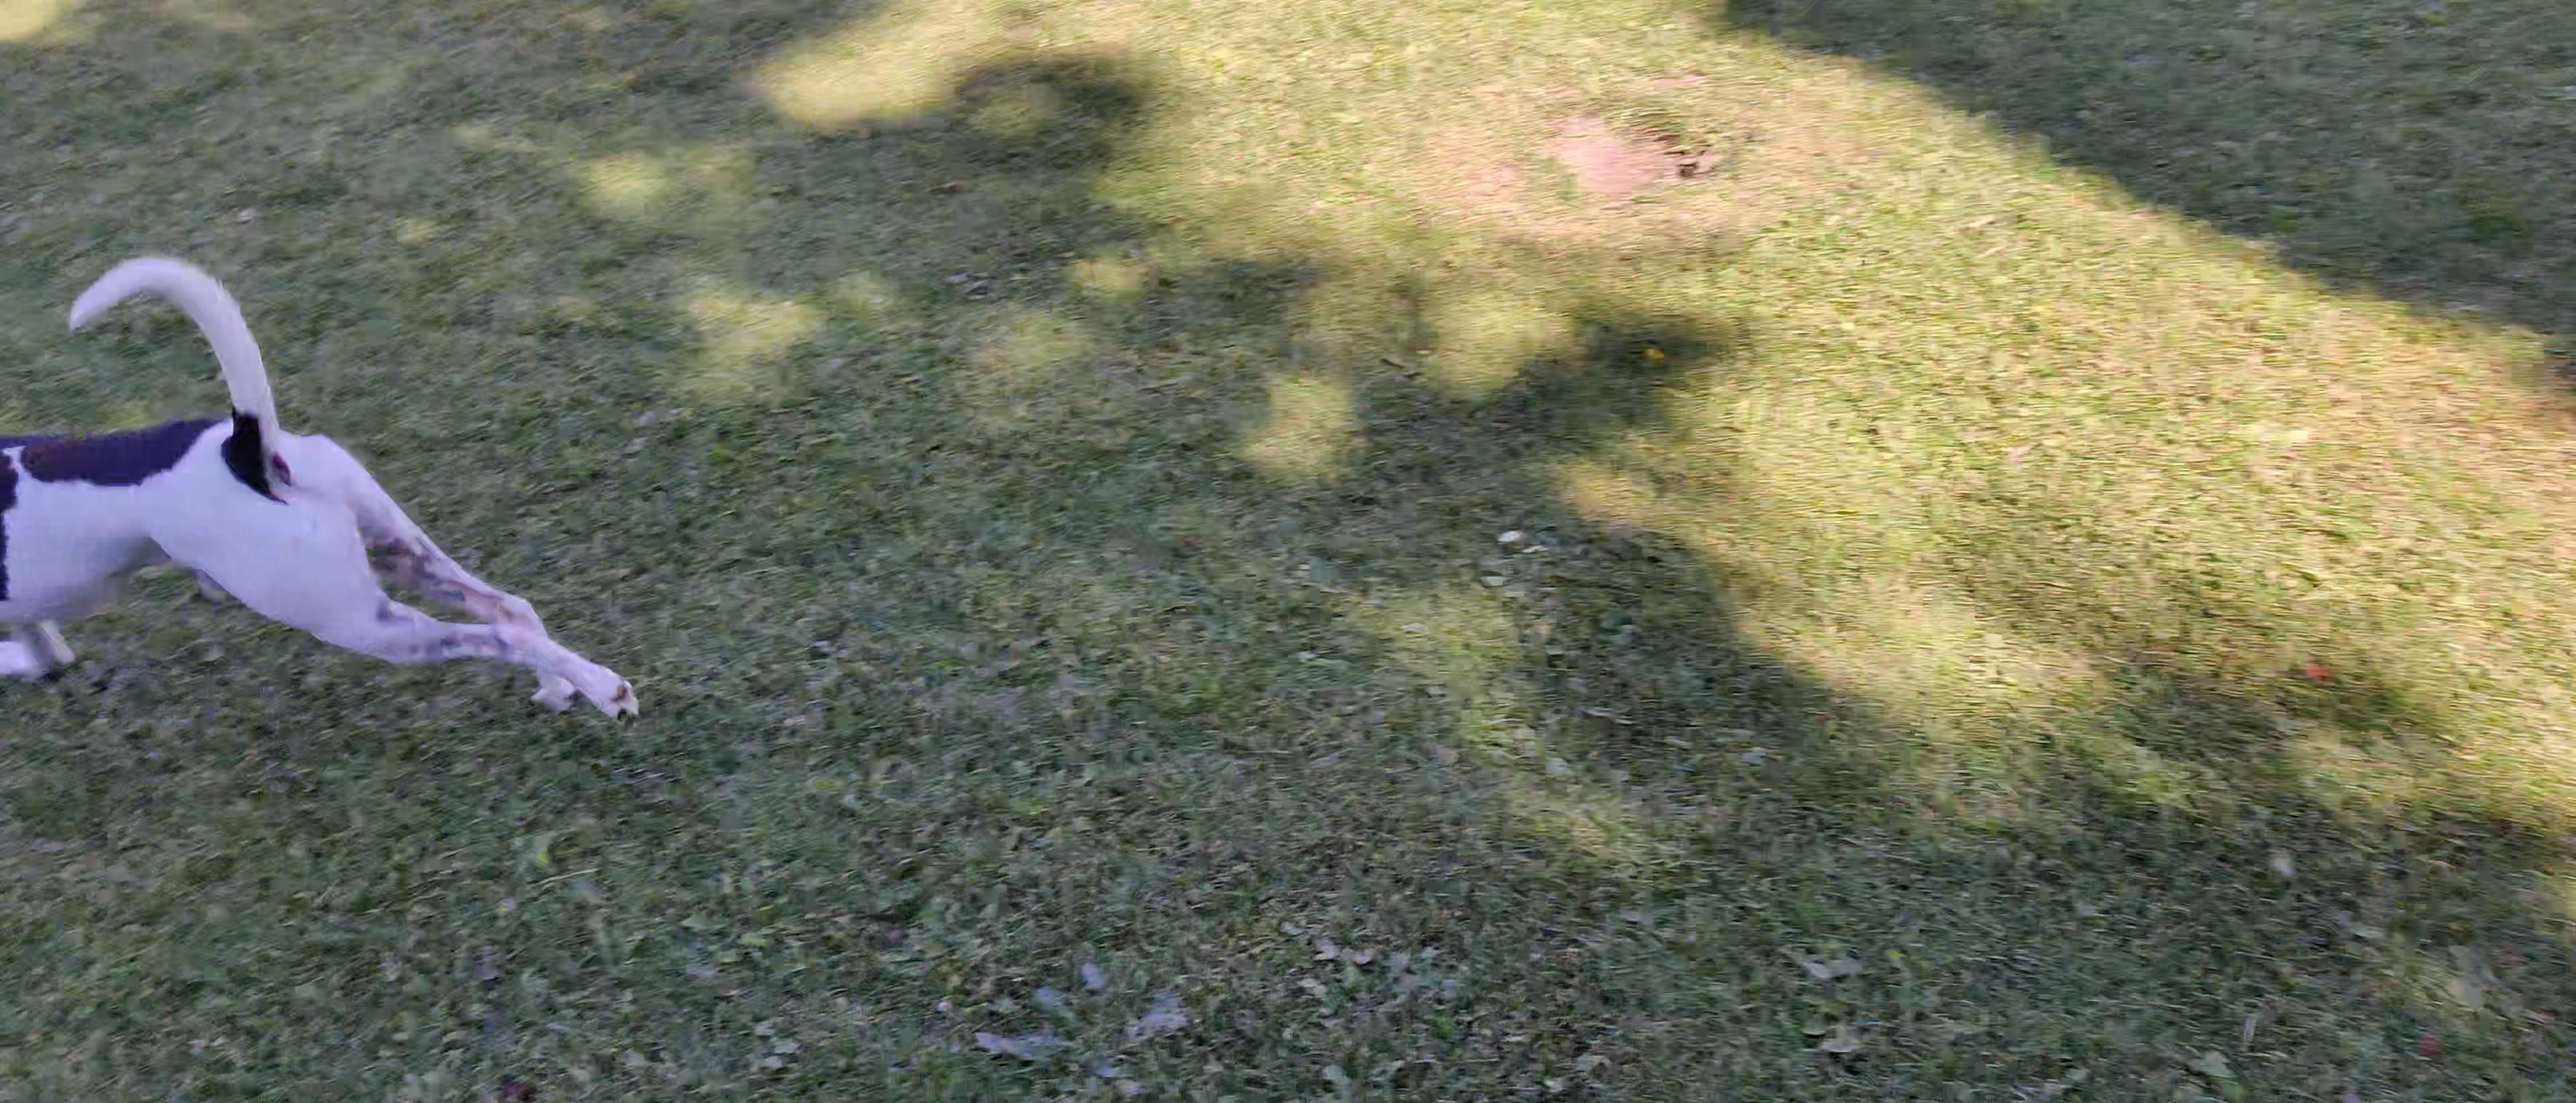Dog: (0, 233, 669, 753)
